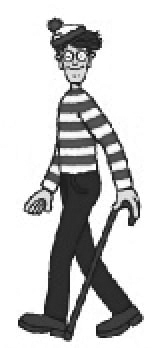Waldo: (9, 15, 147, 342)
